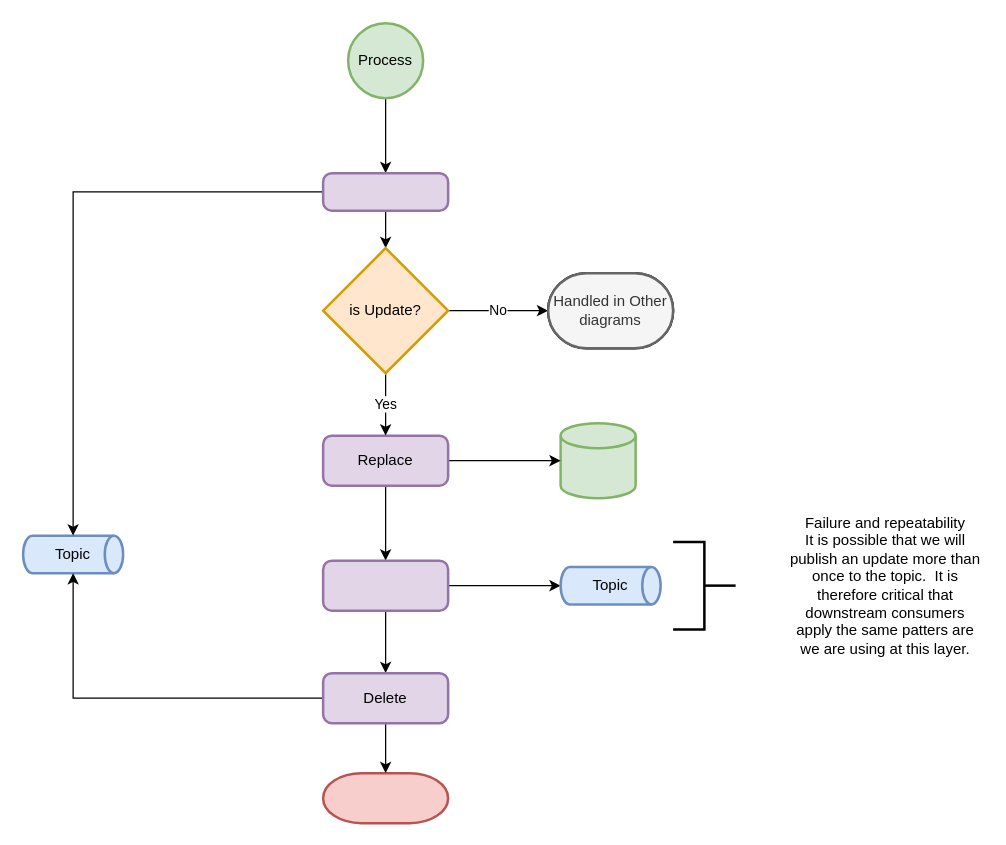
The diagram is 1006 pixels wide and 845 high, and some of its shapes have lost their labels. Here are the shapes that lost their labels. From the top down, the centre of each, then its label:
At [385,191]: "Read".
At [597,460]: "Mongo".
At [385,585]: "Publish".
At [385,797]: "Success".
